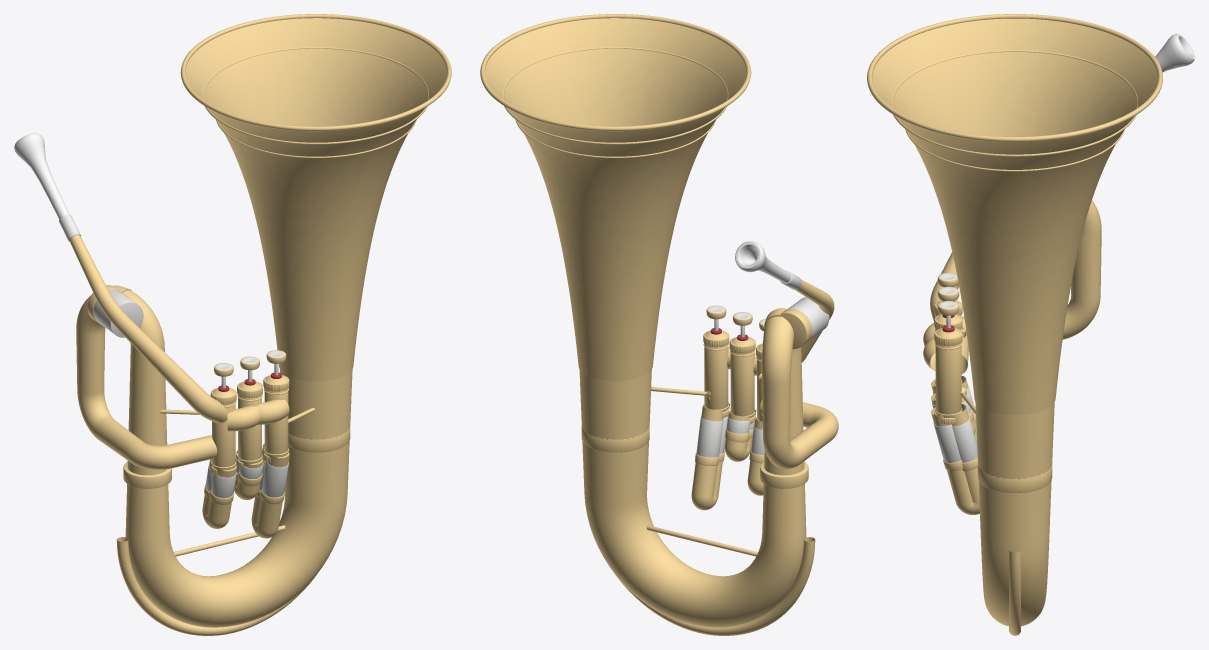
The model's file is tuba3.glb.
The picture shows the model from 3 angles, left to right: view 1: azimuth 30°, elevation 25°; view 2: azimuth 150°, elevation 25°; view 3: azimuth 270°, elevation 25°; orthographic projection. The views are drawn at different scales.
Parts seen in each view (by area): view 1: Body; view 2: Body; view 3: Body.
Part boxes in pixels (<box>): Body: <box>14,14,451,635</box>; Body: <box>480,14,838,635</box>; Body: <box>867,14,1194,635</box>.
Size of the model in its own units: 0.7052 by 1.07 by 0.5367.
